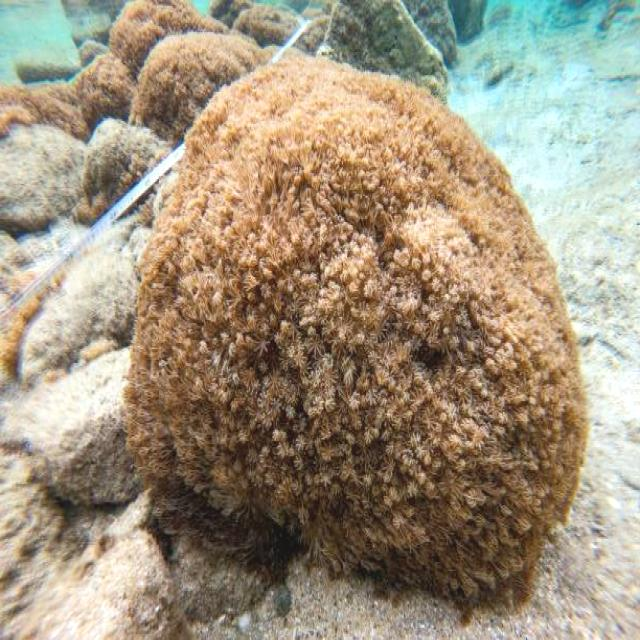Coral: (122, 56, 590, 613), (127, 30, 307, 150), (0, 49, 140, 142), (109, 0, 229, 83)
